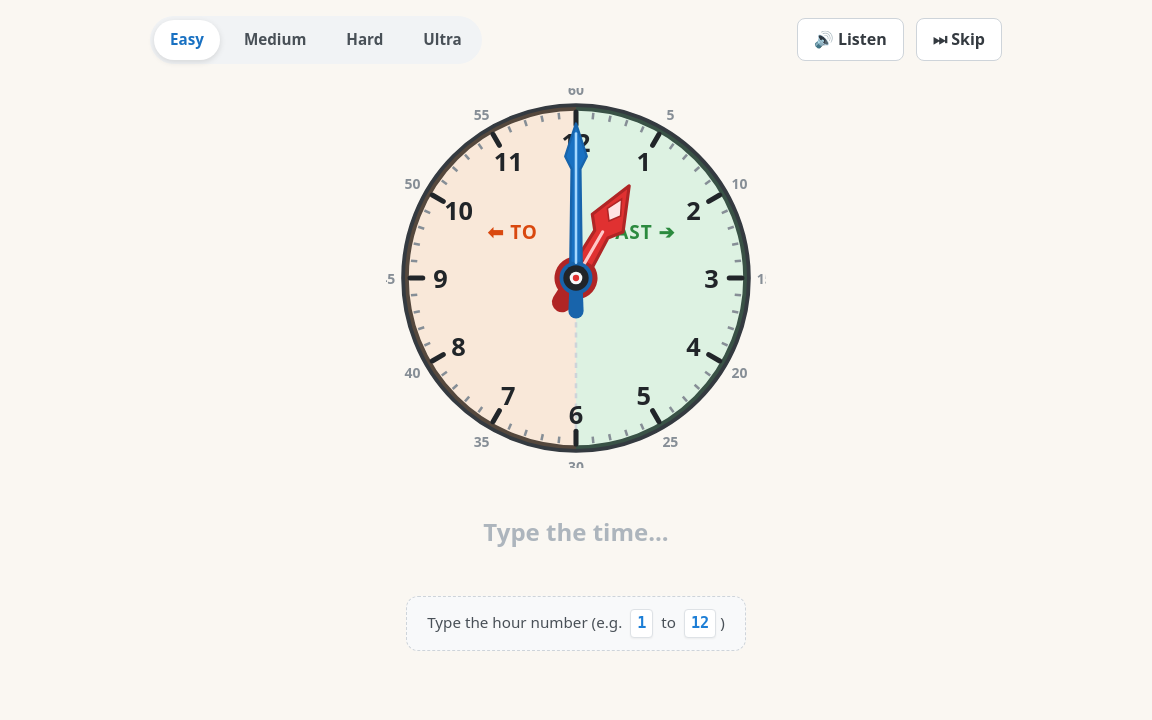
Test: ClockGame › allows switching difficulty levels
The width and height of the screenshot is (1152, 720).
Click the radio button labelled "Medium" at (275, 40), box top-left (228, 20), bottom-right (322, 60)
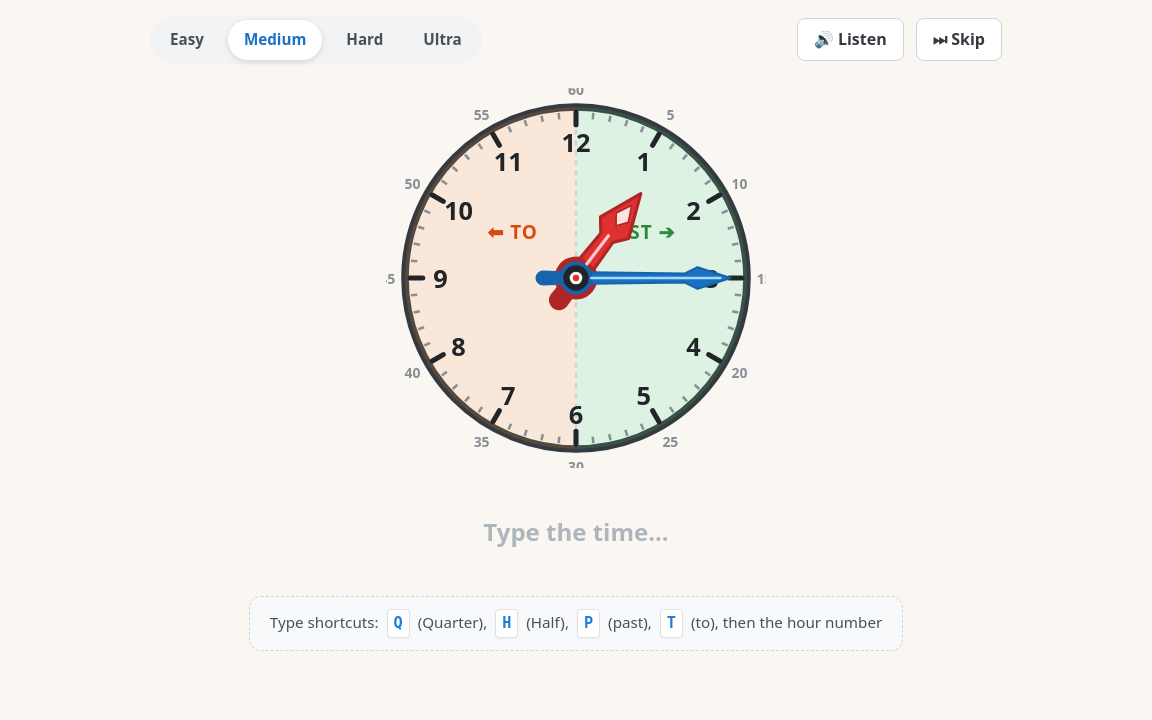
Expected: the element with test id "keyboard-guide" shows "Type shortcuts", top-left (270, 612), bottom-right (383, 632)
